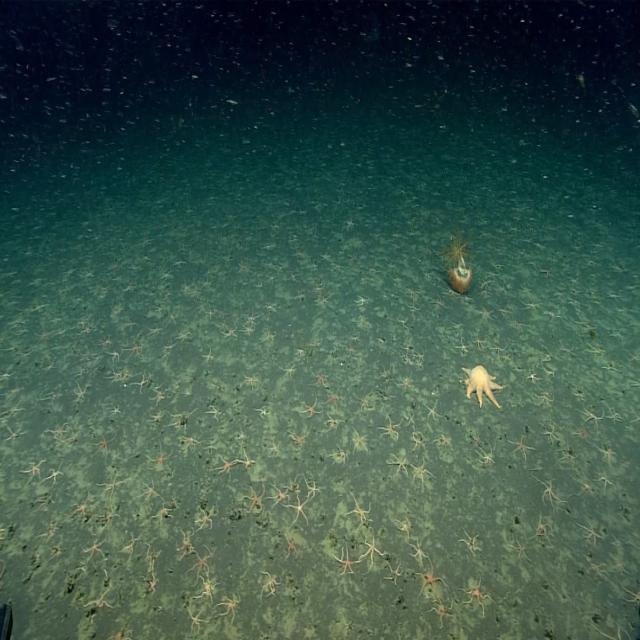brittle-stars: (462, 576, 492, 612), (189, 546, 214, 583), (418, 563, 446, 595), (336, 542, 359, 576), (82, 584, 112, 610), (362, 532, 382, 570), (349, 494, 372, 526), (536, 476, 559, 508), (99, 471, 126, 498), (287, 493, 309, 525), (430, 595, 451, 627), (572, 470, 594, 499), (219, 592, 240, 622), (244, 483, 265, 512), (509, 435, 534, 459), (459, 527, 482, 553), (579, 521, 602, 546), (533, 514, 552, 544), (2, 421, 24, 446), (411, 457, 431, 484), (82, 536, 104, 560), (94, 431, 116, 455), (260, 570, 280, 596), (22, 458, 44, 481), (198, 576, 220, 599), (147, 448, 170, 470), (580, 404, 602, 427), (99, 504, 120, 528), (177, 528, 195, 556), (195, 505, 213, 533), (188, 606, 206, 633), (269, 482, 290, 505), (509, 536, 529, 560), (388, 452, 408, 476), (380, 414, 400, 438), (140, 479, 160, 502), (143, 566, 160, 593), (47, 420, 67, 442), (408, 538, 428, 560), (72, 492, 90, 516), (586, 557, 606, 578), (170, 413, 194, 430), (595, 472, 615, 492), (329, 446, 349, 466), (302, 398, 322, 418), (288, 428, 308, 448), (155, 502, 173, 524), (385, 562, 404, 582), (4, 400, 25, 418), (352, 427, 366, 453), (46, 462, 64, 482), (476, 444, 494, 464), (533, 391, 553, 409), (424, 401, 441, 422), (214, 457, 235, 474), (284, 534, 299, 557), (325, 387, 343, 406), (396, 372, 413, 392), (436, 433, 454, 451), (237, 450, 255, 468), (242, 370, 260, 388), (403, 408, 417, 431), (543, 424, 559, 444), (126, 342, 146, 358), (600, 445, 615, 466), (305, 478, 320, 499), (182, 433, 199, 451), (622, 586, 640, 603), (396, 516, 411, 536), (605, 407, 621, 425), (326, 413, 342, 431), (494, 302, 512, 318), (136, 371, 149, 392), (150, 388, 168, 403), (280, 361, 294, 380), (74, 382, 87, 402), (430, 294, 446, 310), (522, 298, 540, 312), (472, 334, 486, 352), (245, 308, 259, 326), (489, 343, 507, 357), (536, 265, 554, 279), (79, 346, 95, 361), (526, 366, 540, 383), (167, 309, 180, 327), (262, 329, 277, 344), (456, 337, 470, 353), (406, 284, 420, 300), (208, 405, 222, 421), (151, 408, 165, 424), (106, 367, 122, 381), (108, 348, 122, 364), (355, 292, 370, 306), (312, 372, 326, 387), (480, 304, 493, 320), (242, 322, 255, 338), (224, 324, 238, 338), (203, 345, 213, 364), (176, 331, 192, 342), (149, 323, 162, 336), (165, 339, 177, 353), (78, 325, 93, 336), (161, 268, 172, 282), (110, 404, 122, 416), (402, 353, 414, 365), (256, 406, 268, 418), (333, 260, 344, 272), (264, 274, 277, 284), (347, 341, 356, 355), (321, 250, 331, 262), (414, 350, 424, 361), (262, 258, 272, 269)
